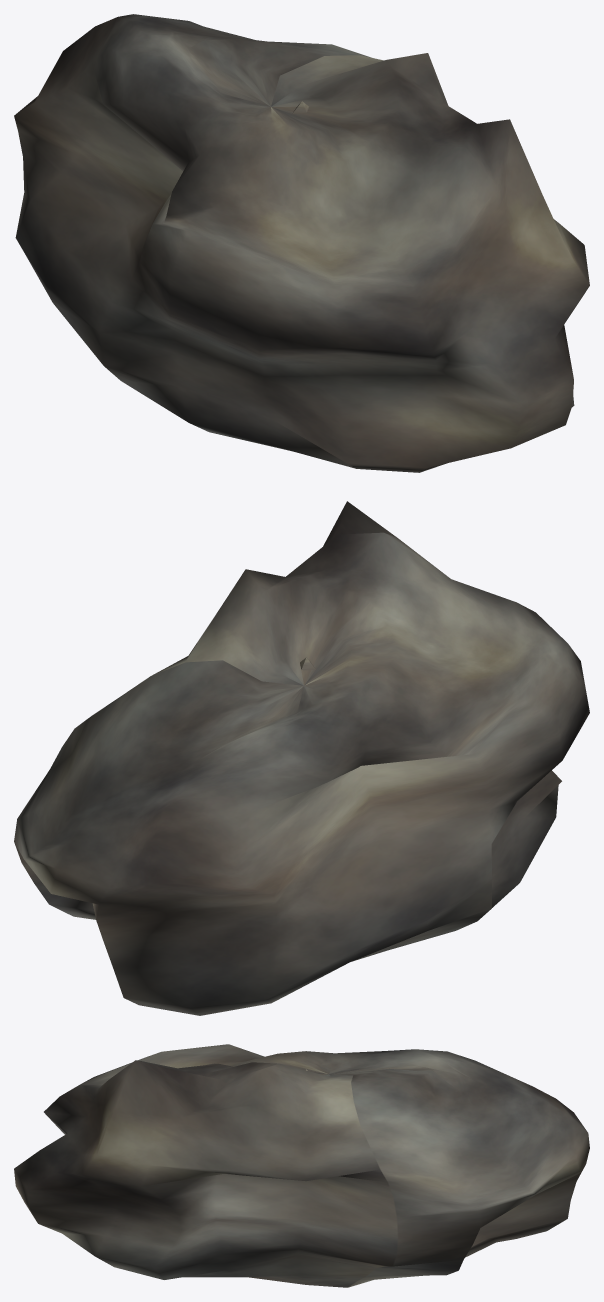
Rendered from rock4.fbx.
3 renders of one model, top to bottom at view 1: azimuth 30°, elevation 25°; view 2: azimuth 150°, elevation 25°; view 3: azimuth 270°, elevation 25°, orthographic. The views are drawn at different scales.
Visible parts, largest first — view 1: polySurface1; view 2: polySurface1; view 3: polySurface1.
Part boxes in pixels (<box>): polySurface1: <box>14,14,589,472</box>; polySurface1: <box>14,501,589,1015</box>; polySurface1: <box>14,1044,589,1287</box>.
Bounding box in the file's own units: 506 × 400 × 898.
